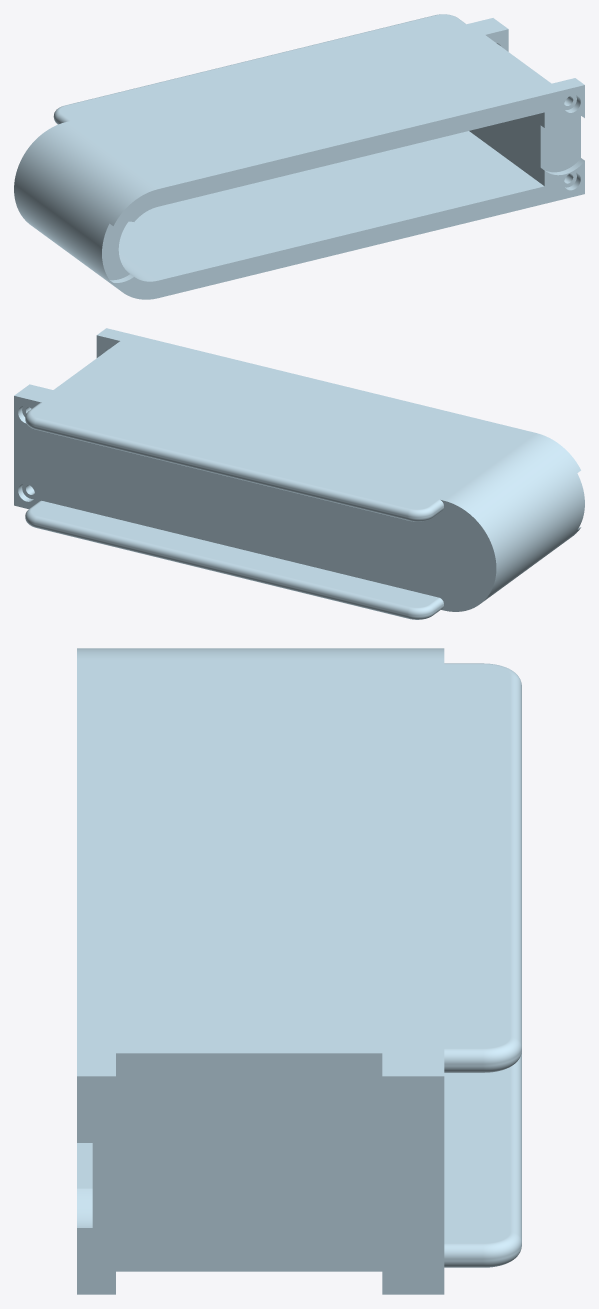
The model's file is _MfgOCFQSaiTe_sQ0m.gltf.
3 renders of one model, top to bottom at view 1: azimuth 30°, elevation 25°; view 2: azimuth 150°, elevation 25°; view 3: azimuth 270°, elevation 25°, orthographic. The views are drawn at different scales.
Visible parts, largest first — view 1: SnakeTail; view 2: SnakeTail; view 3: SnakeTail.
Boxes of the visible parts, bbox=[...] form: SnakeTail: bbox=[14, 14, 584, 299]; SnakeTail: bbox=[14, 328, 584, 619]; SnakeTail: bbox=[77, 648, 521, 1294].
Size of the model in its own units: 0.1425 by 0.031 by 0.0573.
